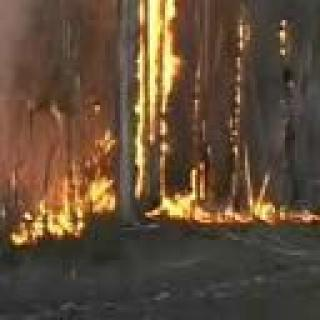fire: (6, 128, 105, 241), (144, 0, 177, 218), (218, 188, 319, 227)
